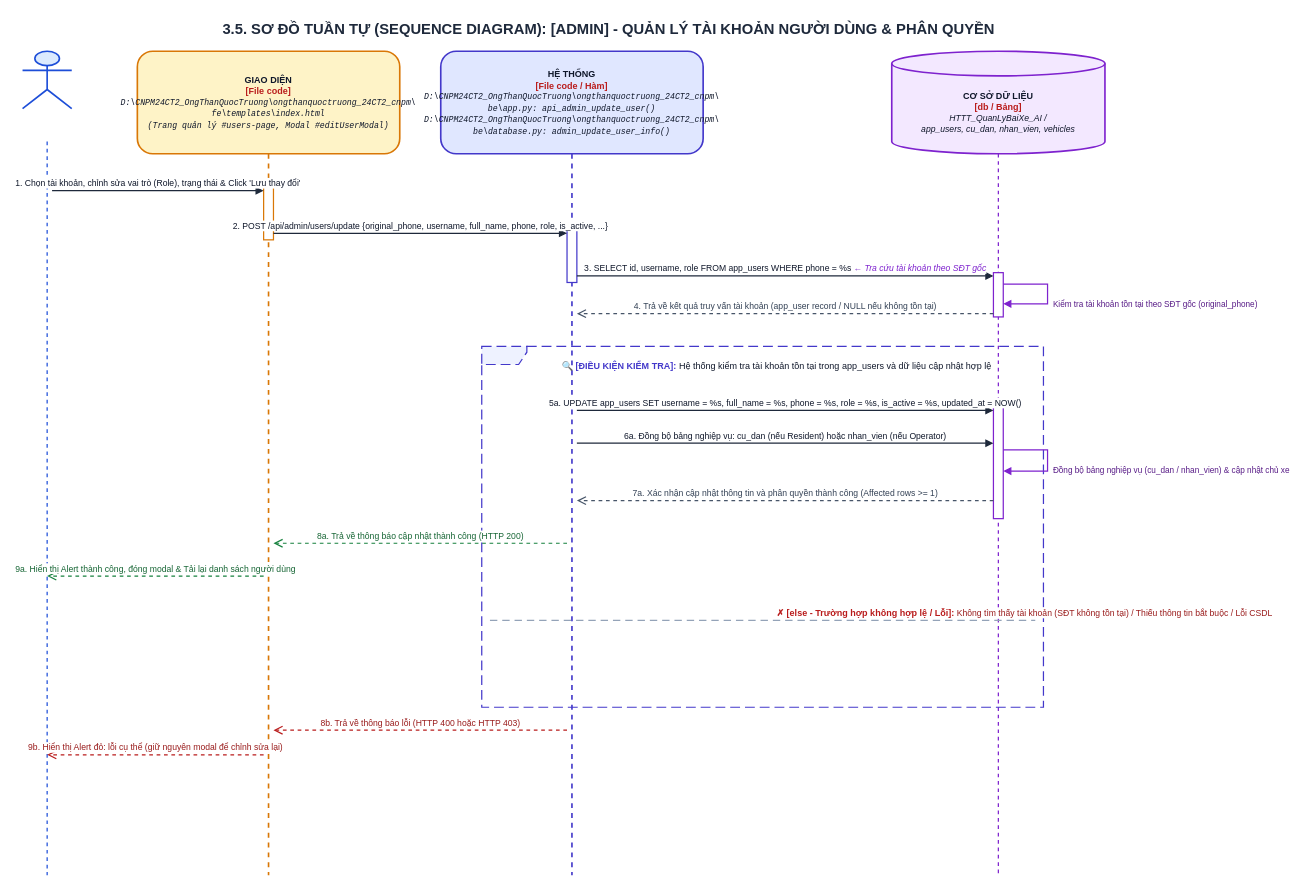
The diagram is 1304 pixels wide and 891 high, and some of its shapes have lost their labels. Each missing label, with the box of its shape:
alt: (481, 345, 1044, 707)
TÁC NHÂN Quản Trị Viên (Admin): (21, 50, 72, 109)
